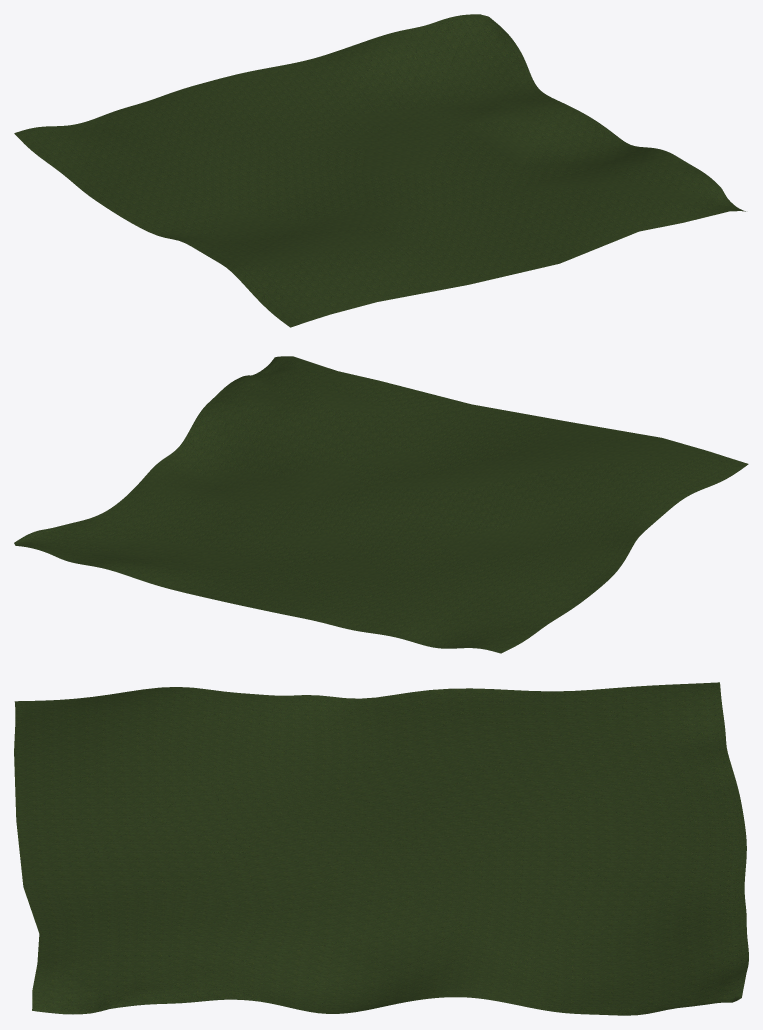
The model's file is landscape.glb.
The picture shows the model from 3 angles, top to bottom: view 1: azimuth 30°, elevation 25°; view 2: azimuth 150°, elevation 25°; view 3: azimuth 270°, elevation 25°; orthographic projection. The views are drawn at different scales.
Visible parts, largest first — view 1: Plane; view 2: Plane; view 3: Plane.
Part boxes in pixels (x1,y1,x2,y2): Plane: (14, 14, 745, 327); Plane: (14, 356, 748, 653); Plane: (14, 682, 748, 1015).
Bounding box in the file's own units: 22.09 × 1.54 × 21.56.
1 material, 1 textured.
